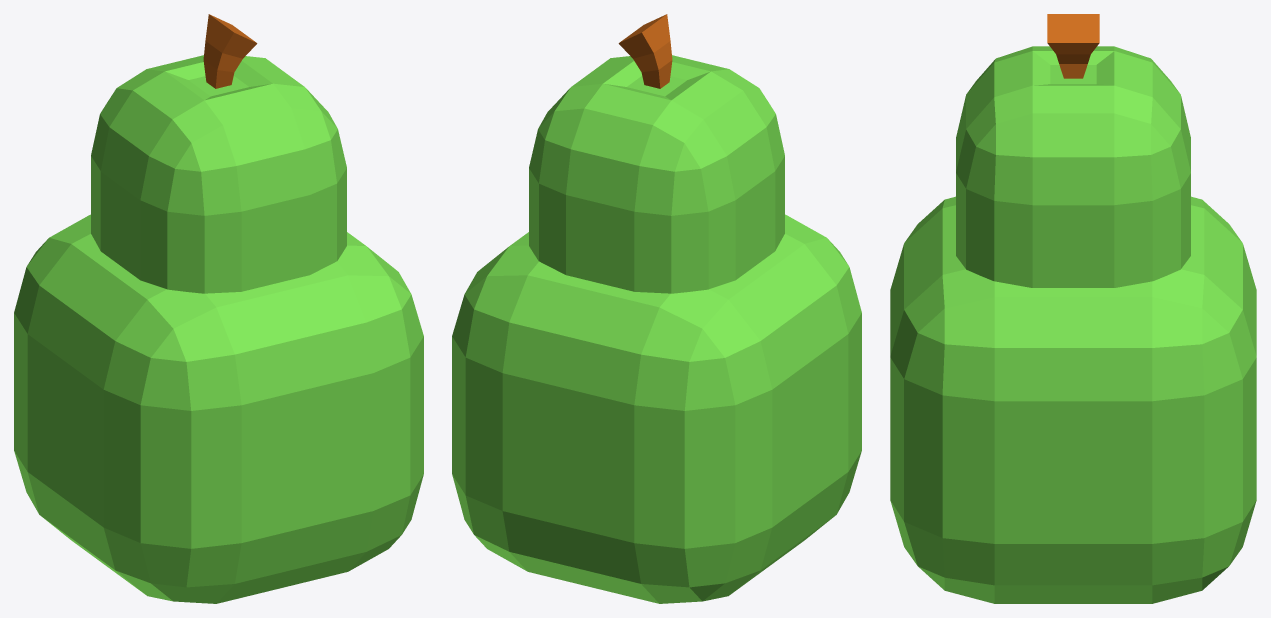
File: finalpeartrial2_LOD_0.fbx
3 views of the same model, side by side, from view 1: azimuth 30°, elevation 25°; view 2: azimuth 150°, elevation 25°; view 3: azimuth 270°, elevation 25° (orthographic). The views are drawn at different scales.
Parts seen in each view (by area): view 1: Cube, Cube.001; view 2: Cube, Cube.001; view 3: Cube, Cube.001.
Boxes of the visible parts, x1,y1,x2,y2 form: Cube: (14, 214, 423, 603); Cube.001: (91, 14, 346, 293); Cube: (452, 214, 861, 603); Cube.001: (529, 14, 784, 293); Cube: (890, 196, 1256, 603); Cube.001: (956, 14, 1190, 287).
Bounding box in the file's own units: 251 × 415 × 251.
